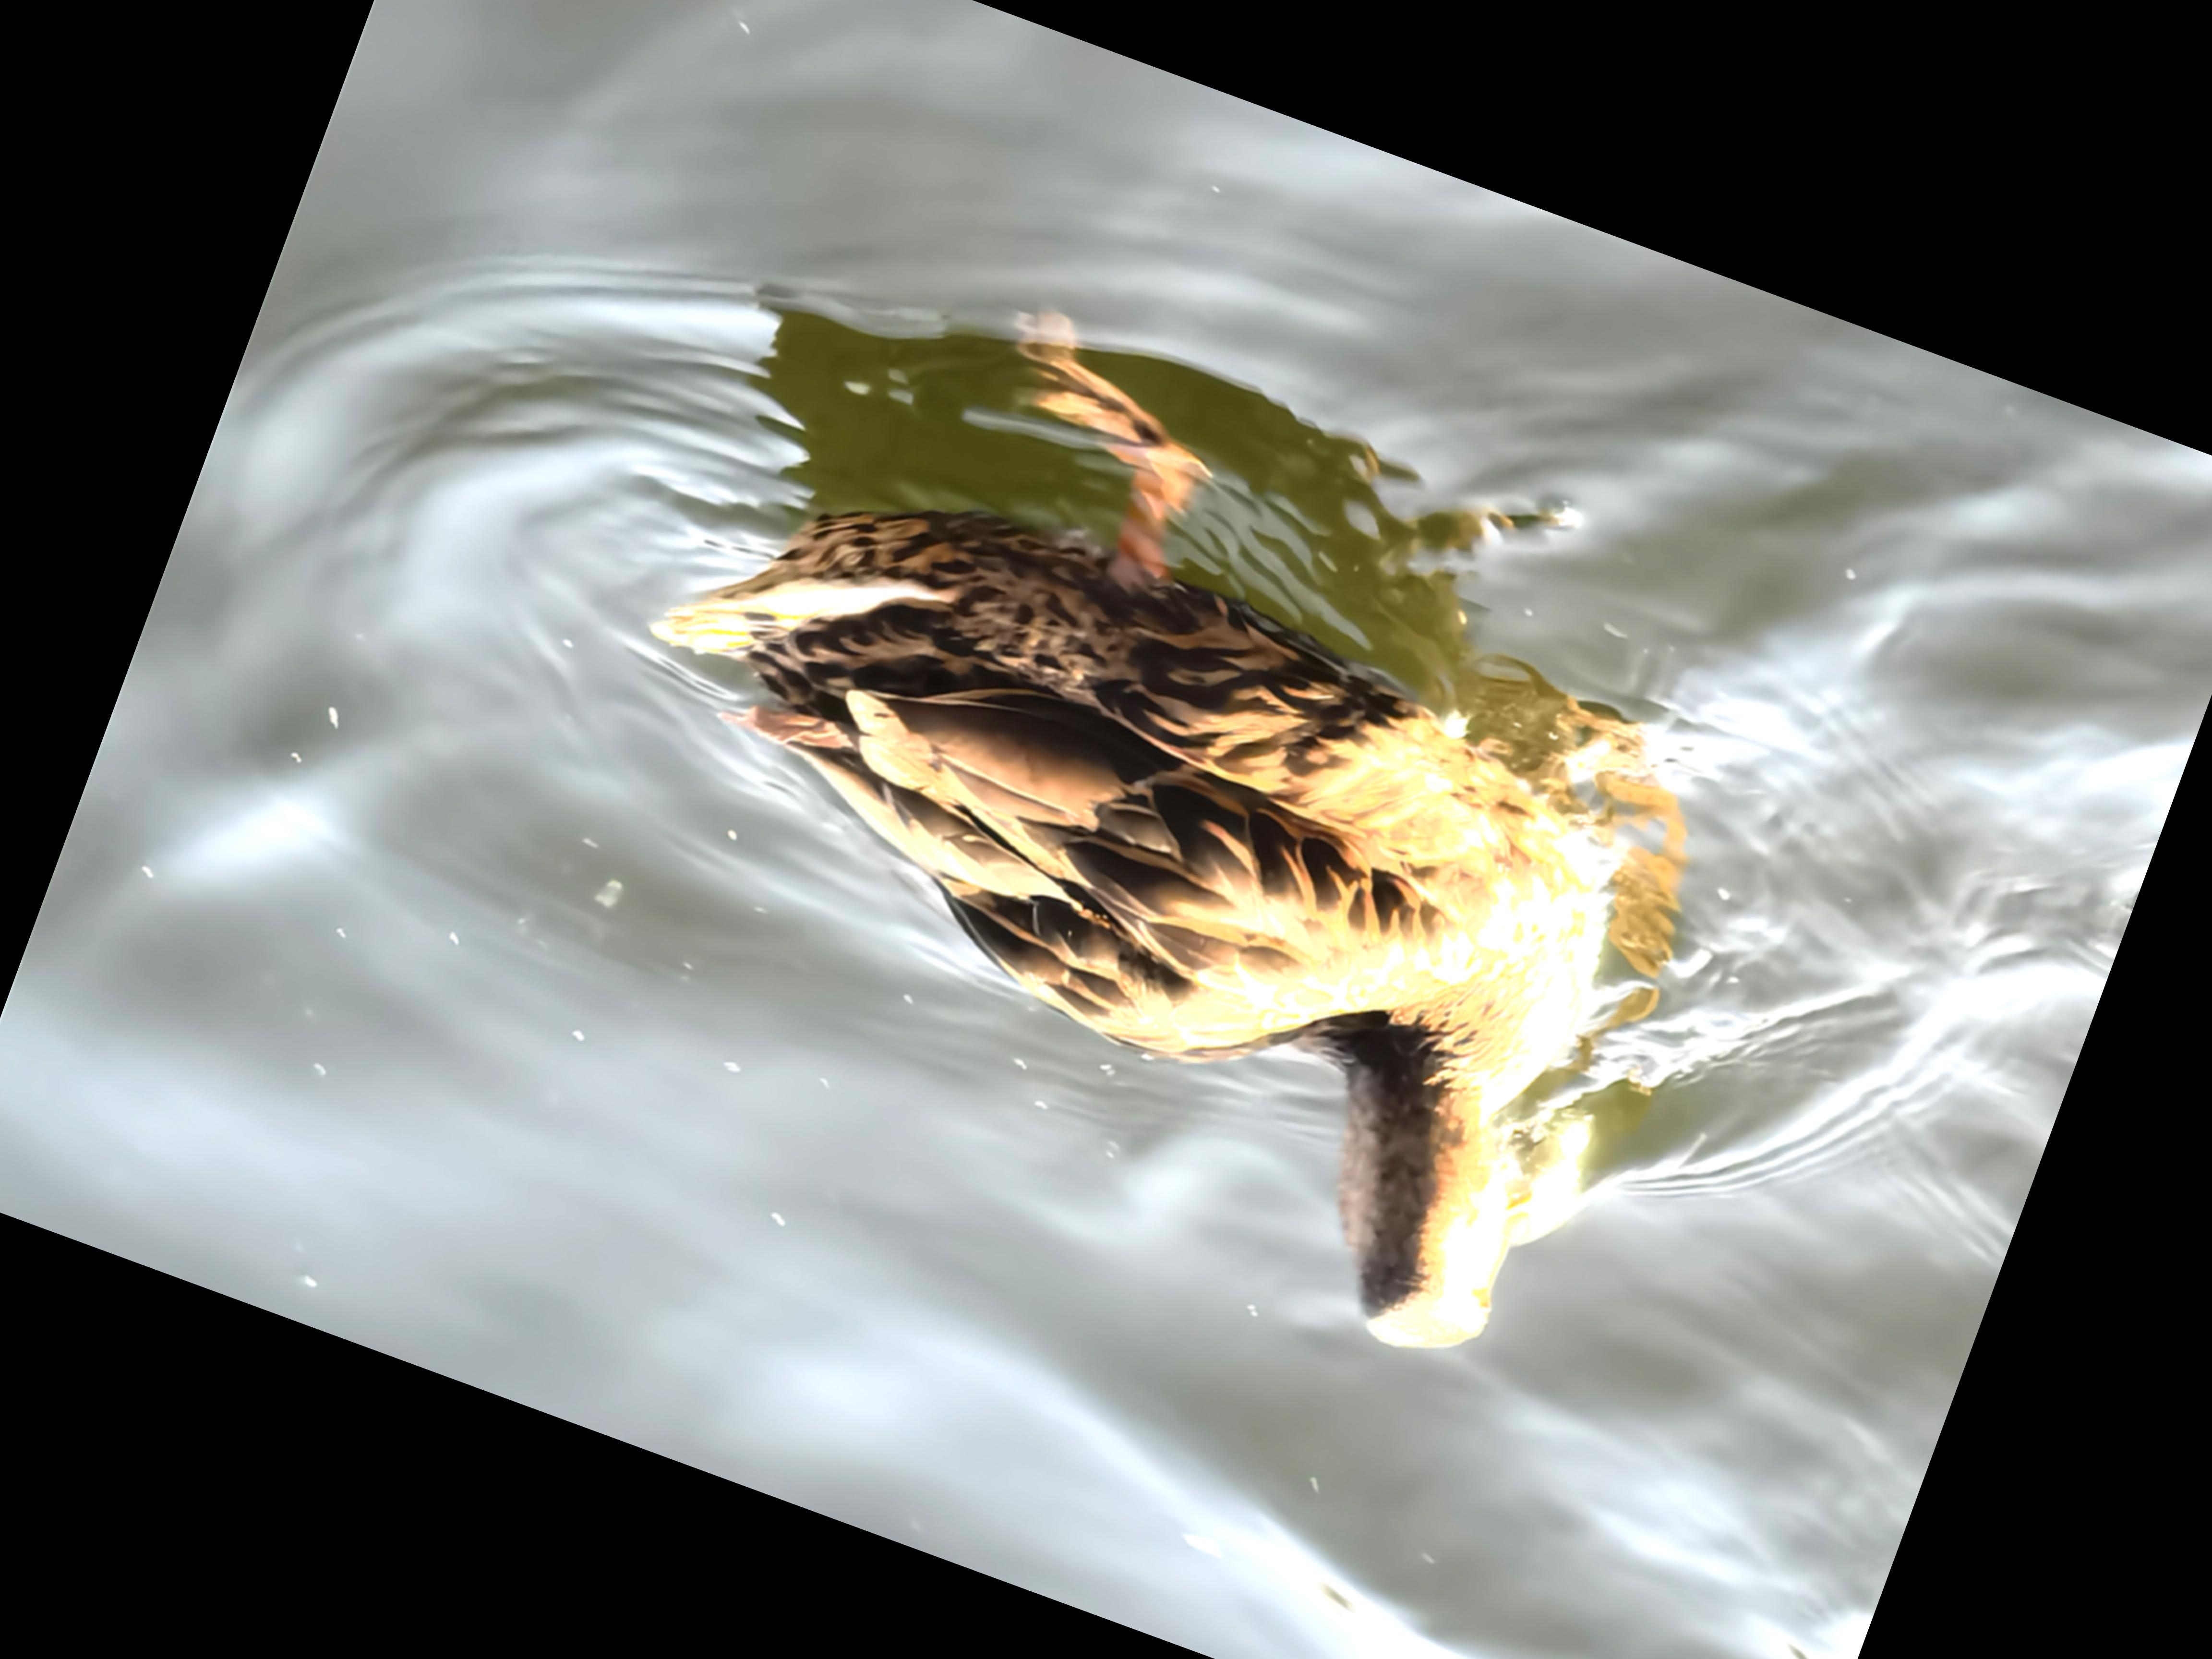duck: (481, 284, 1803, 1425)
